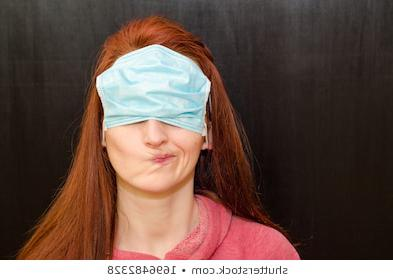mask_weared_incorrect: (100, 75, 205, 195)
